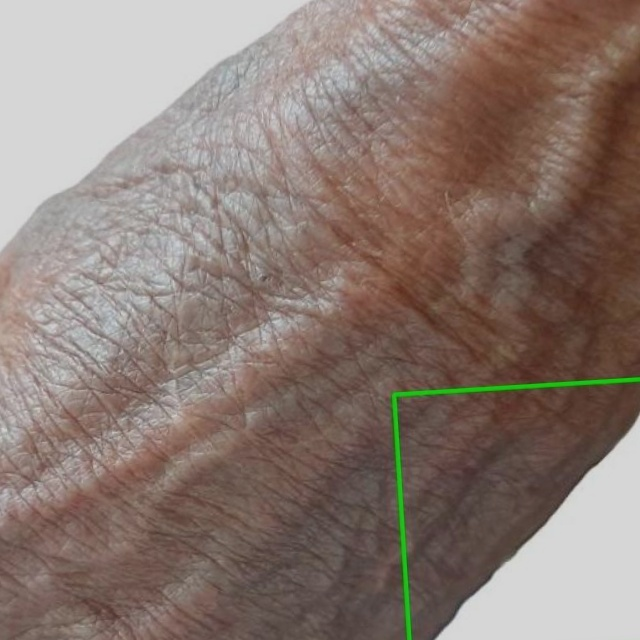Eczema: (394, 379, 639, 639)
